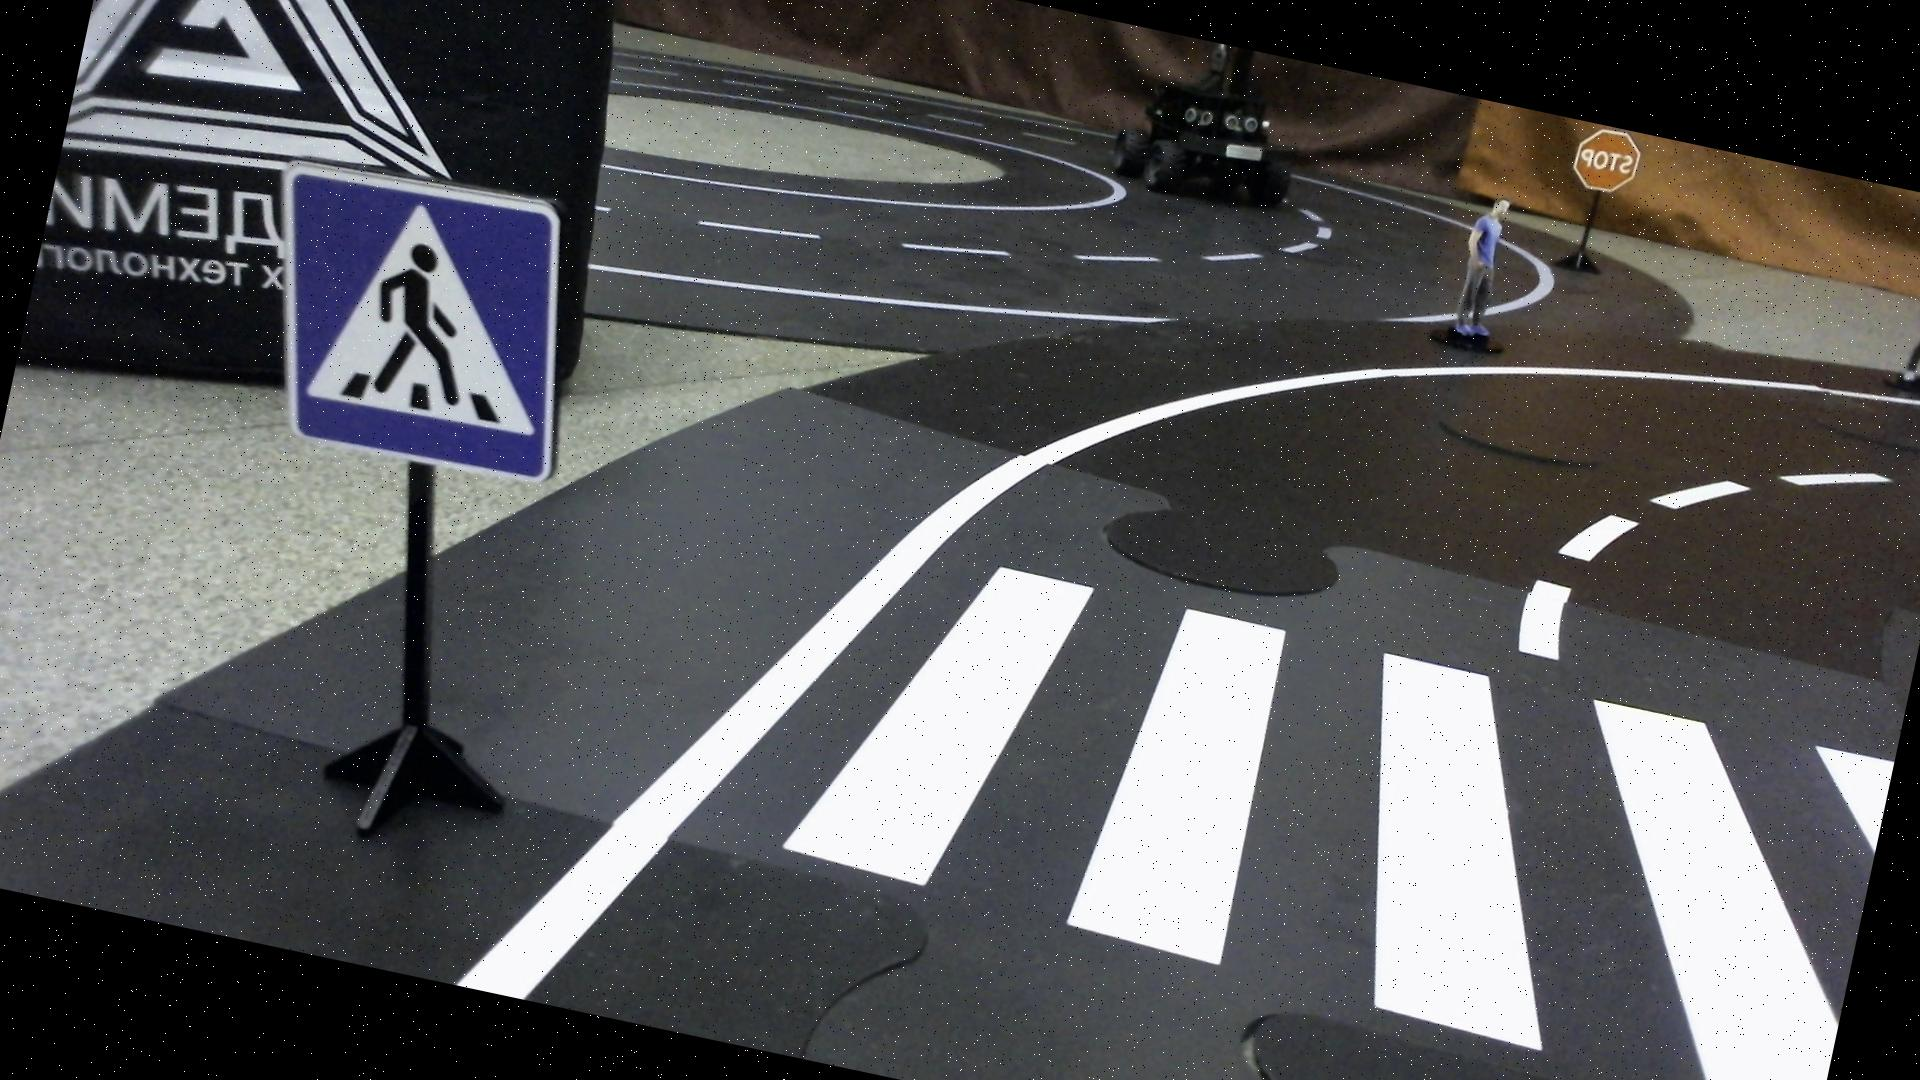crossing: (730, 502, 1900, 1080)
person: (1440, 190, 1524, 347), (1892, 248, 1920, 392)
